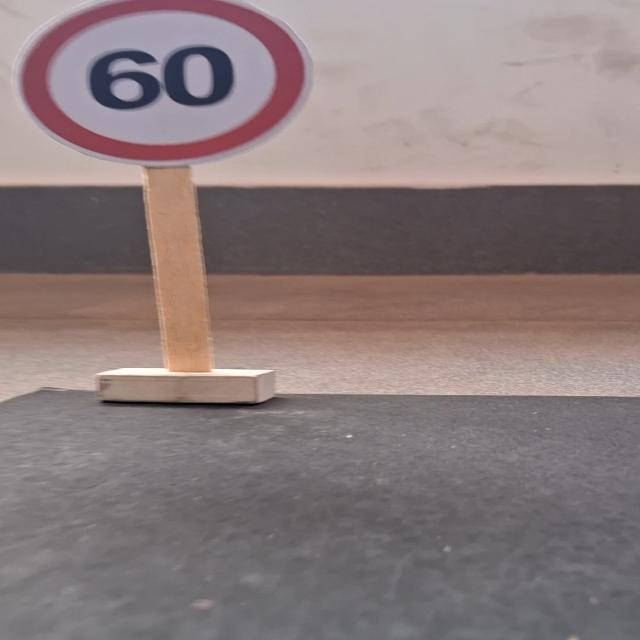Speed60: (0, 0, 321, 156)
